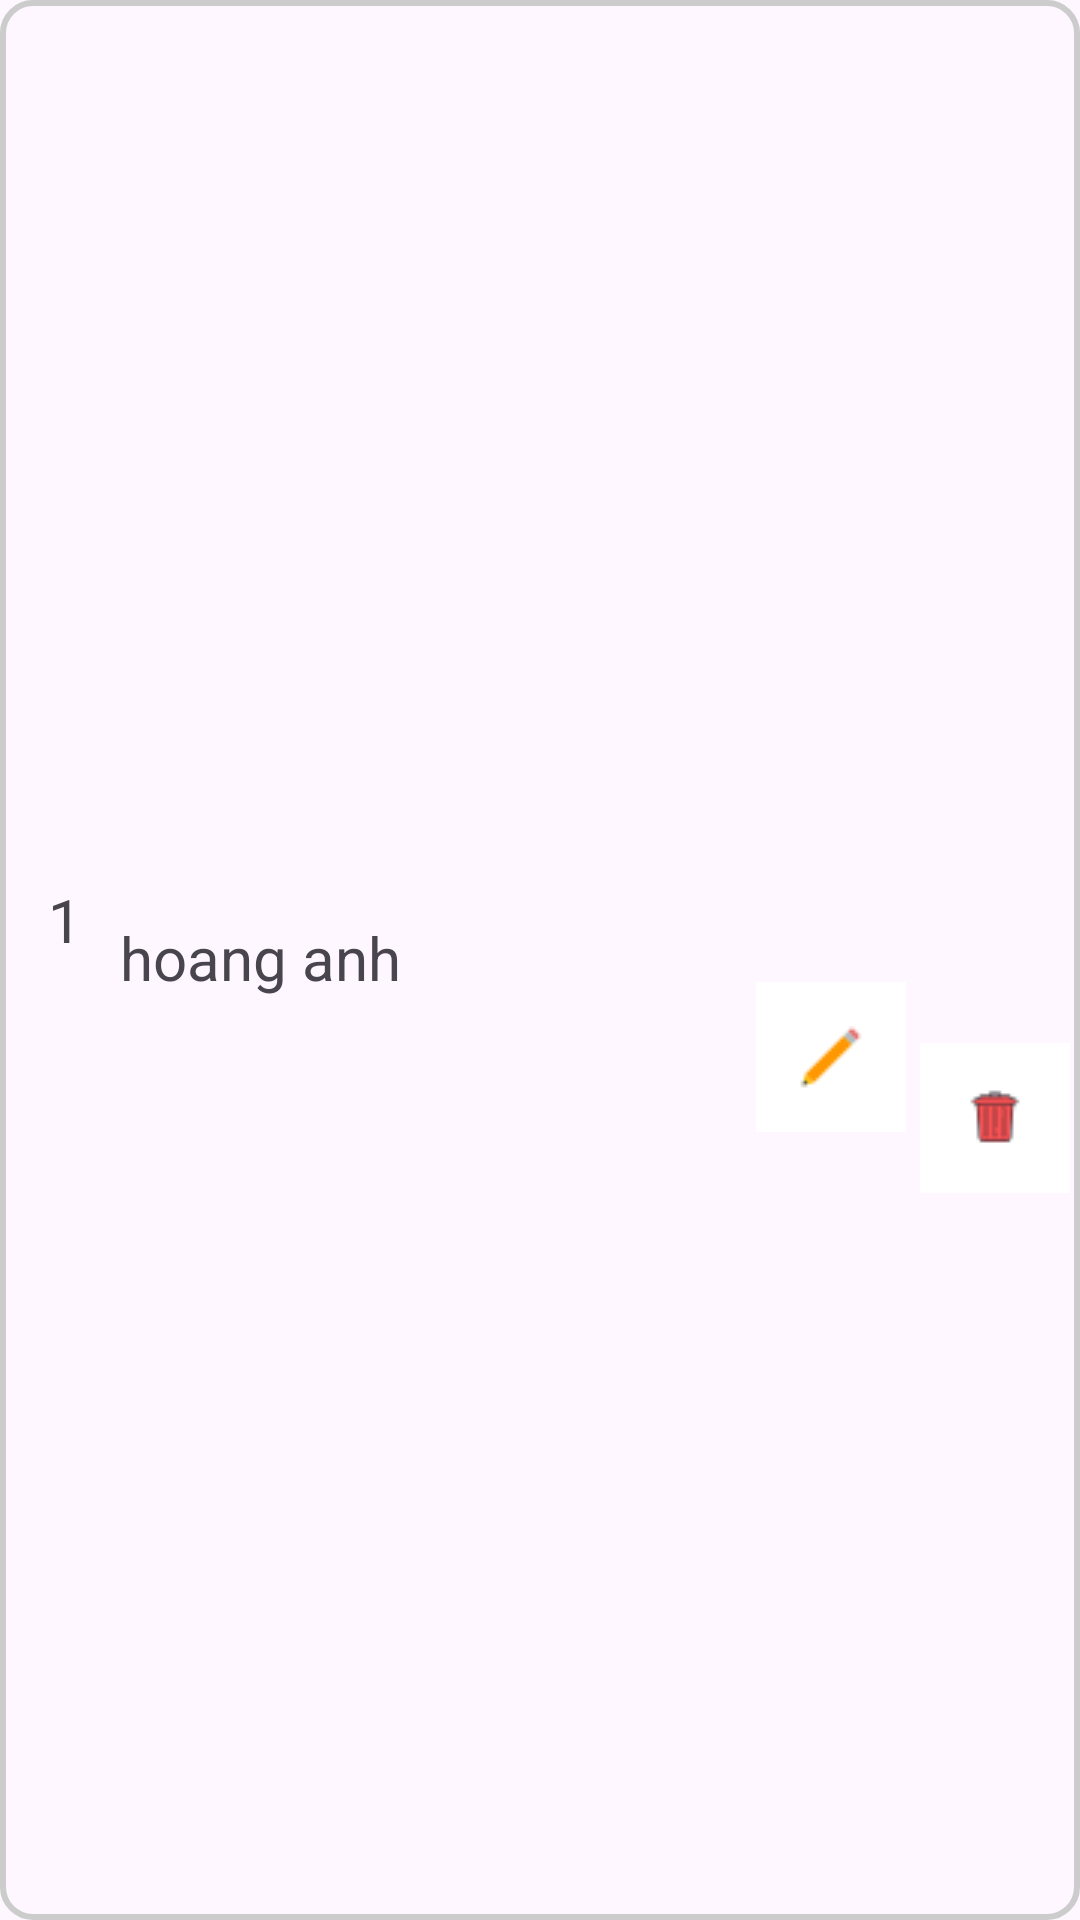

Named icons in this screenshot (1080×1920) and their centers, (x,y):
delete: (995,1116)
edit: (830,1057)
